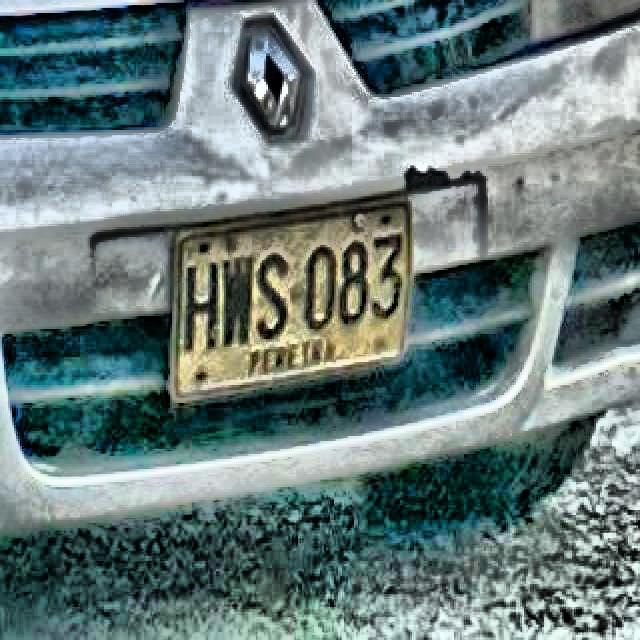plate: (176, 201, 405, 395)
